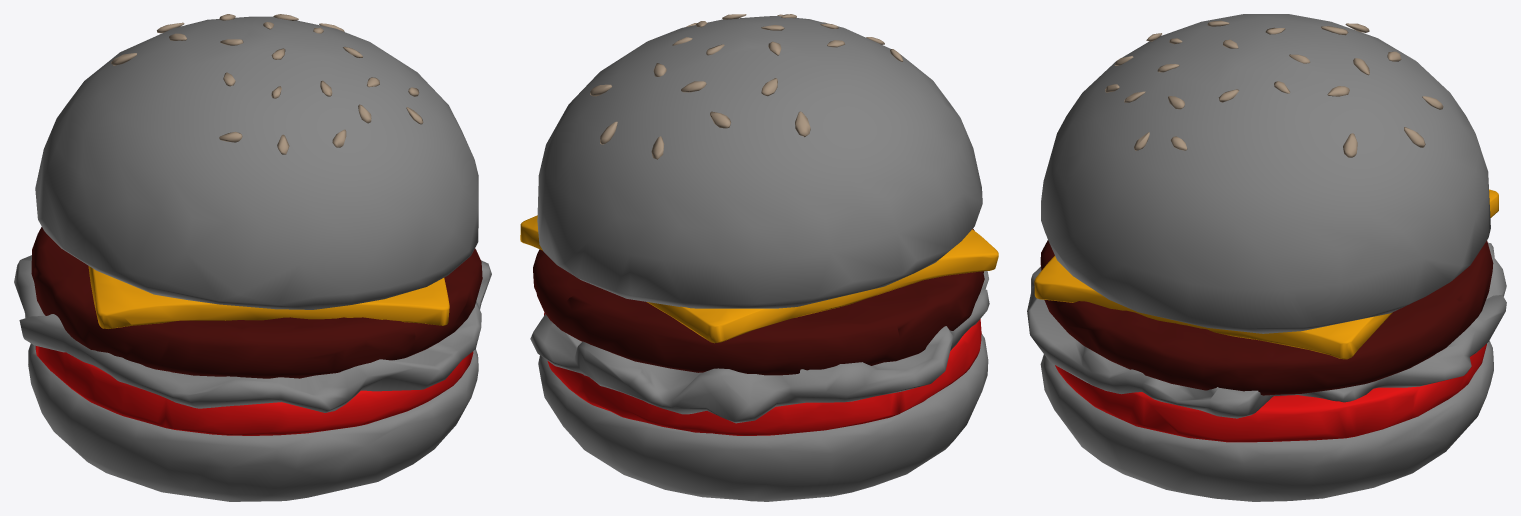
Rendered from burger (1).fbx.
3 renders of one model, left to right at view 1: azimuth 30°, elevation 25°; view 2: azimuth 150°, elevation 25°; view 3: azimuth 270°, elevation 25°, orthographic.
Parts seen in each view (by area): view 1: Sphere001, bread_base, beef, Group58080, Object001, cheef, Sesame; view 2: Sphere001, bread_base, beef, Group58080, Object001, cheef, Sesame; view 3: Sphere001, bread_base, beef, Object001, Group58080, cheef, Sesame.
Boxes of the visible parts, box(x1,y1,x2,y2) form: Sphere001: box(35, 16, 478, 309); bread_base: box(28, 343, 478, 501); beef: box(31, 227, 482, 378); Group58080: box(14, 255, 491, 412); Object001: box(35, 346, 473, 435); cheef: box(88, 266, 449, 328); Sesame: box(111, 14, 423, 154); Sphere001: box(537, 16, 982, 308); bread_base: box(538, 333, 988, 501); beef: box(533, 229, 984, 375); Group58080: box(530, 271, 989, 423); Object001: box(544, 312, 981, 435); cheef: box(520, 215, 998, 343); Sesame: box(590, 14, 903, 159); Sphere001: box(1041, 14, 1490, 333); bread_base: box(1040, 340, 1493, 501); beef: box(1040, 240, 1493, 395); Object001: box(1055, 343, 1486, 442); Group58080: box(1027, 242, 1506, 418); cheef: box(1034, 189, 1498, 359); Sesame: box(1105, 20, 1443, 157).
Bounding box in the file's own units: 63.42 × 58.17 × 62.32.
